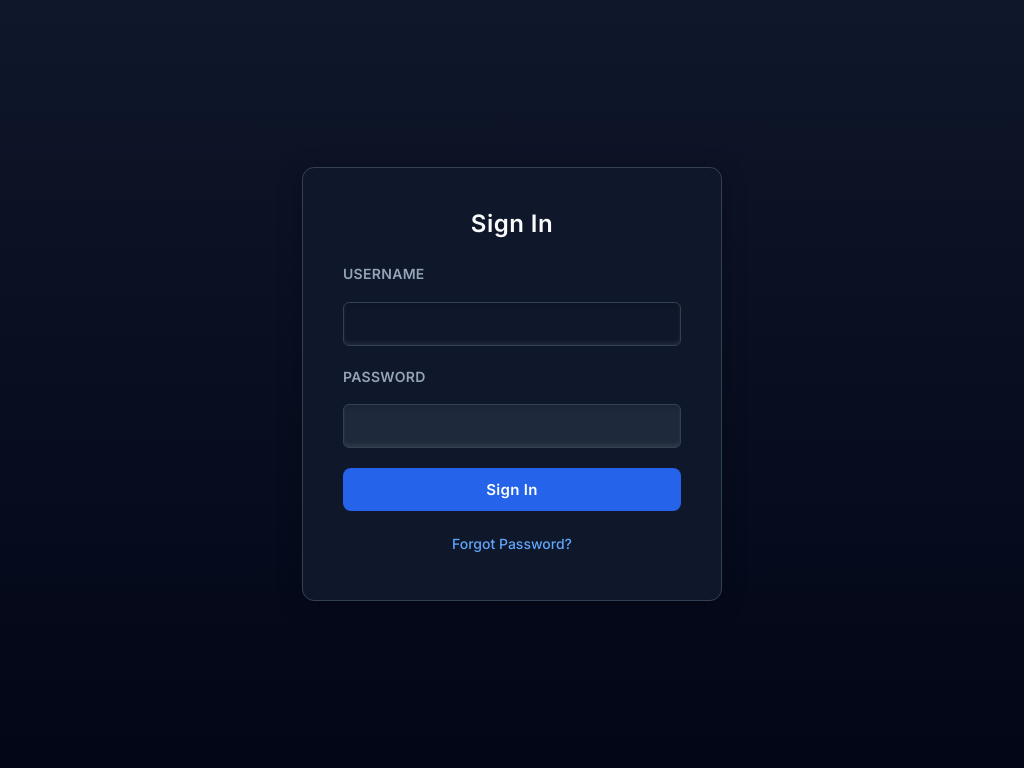
Login Component › UI-LOGIN-010: Display error message on sign in failure
Type "test@example.com" into the field labelled "Username" at (512, 324), box [343,302,681,346]
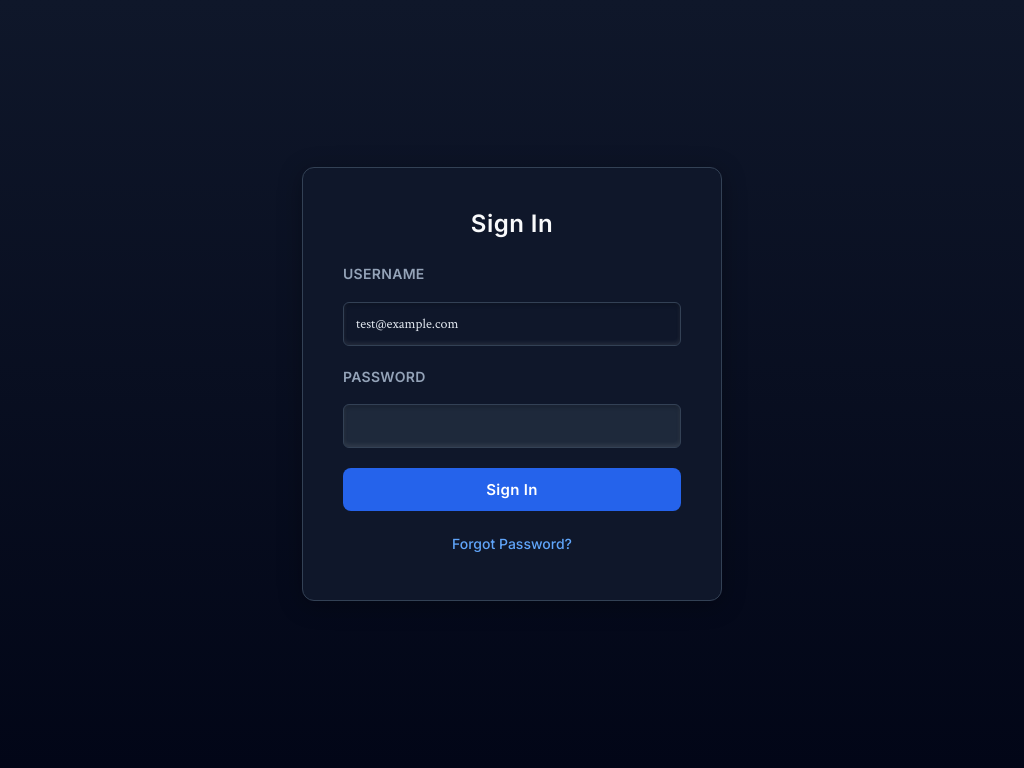
Type "wrongpassword" into the password field labelled "Password" at (512, 426), box [343,404,681,448]
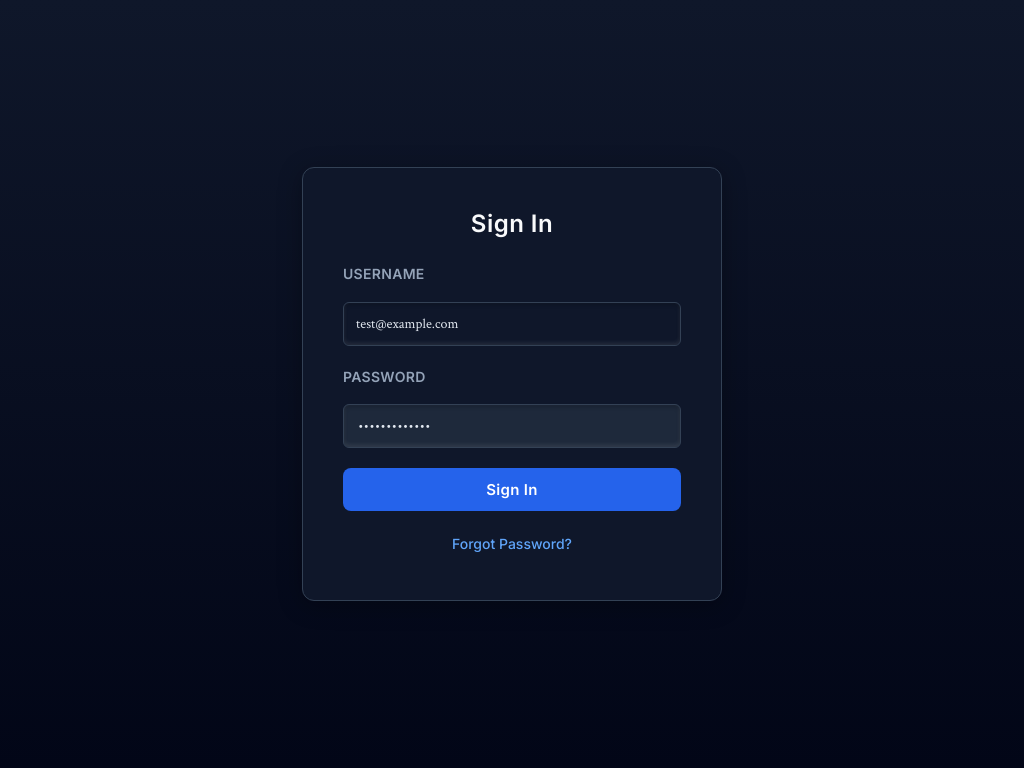
Click the button "Sign In" at (512, 490), box [343,468,681,511]
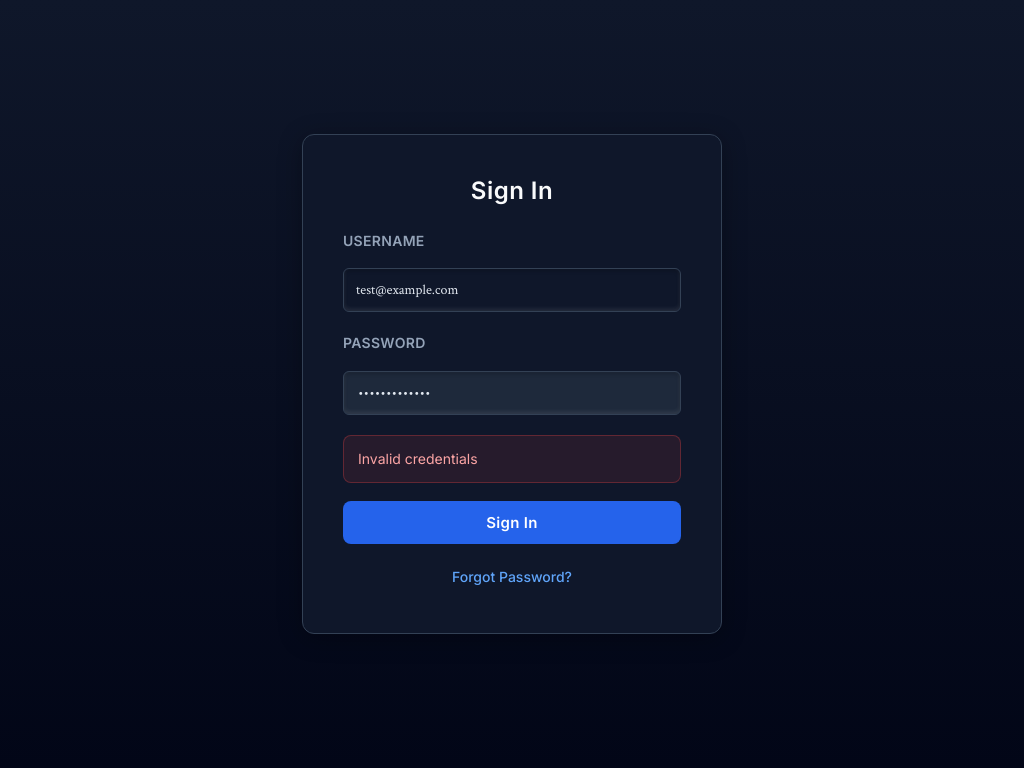
Expected: the text "Invalid credentials" is shown, [343,435,681,483]
